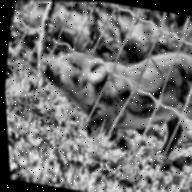boar: (27, 29, 192, 175)
